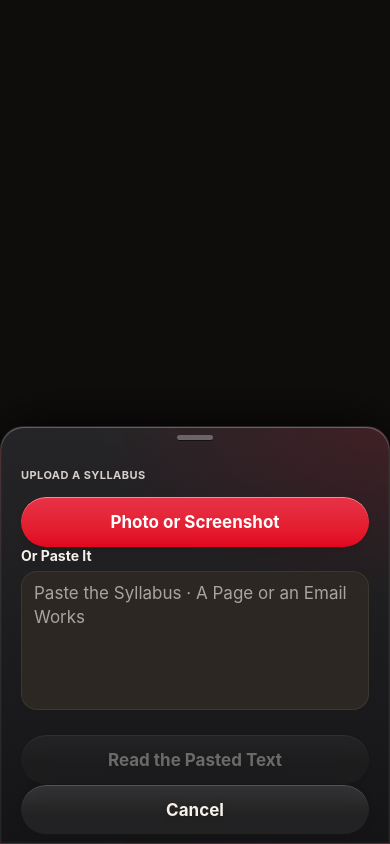
it: SyllabusUploadFlow: the review row reads as facts (§AM) › a row with no date says so in amber, and shows no date fact
Type "Essay 1 due Sep 15 (20%). Readings as we go." into the text box with placeholder "Paste the Syllabus · A Page or an Email Works" at [195, 640], box [21,571,369,710]
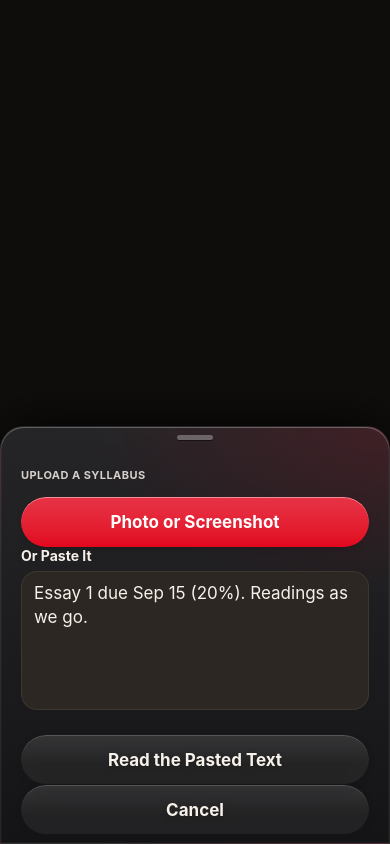
Click the button "Read the Pasted Text" at [195, 760], box [21,735,369,785]
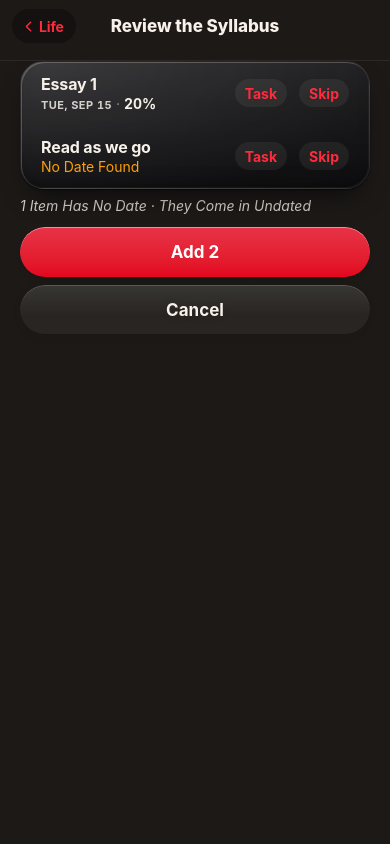
Result: the text "Review the Syllabus" is shown at [111,15,279,37]
Result: the text with class "warn" reads "No Date Found" at [41,158,139,175]
